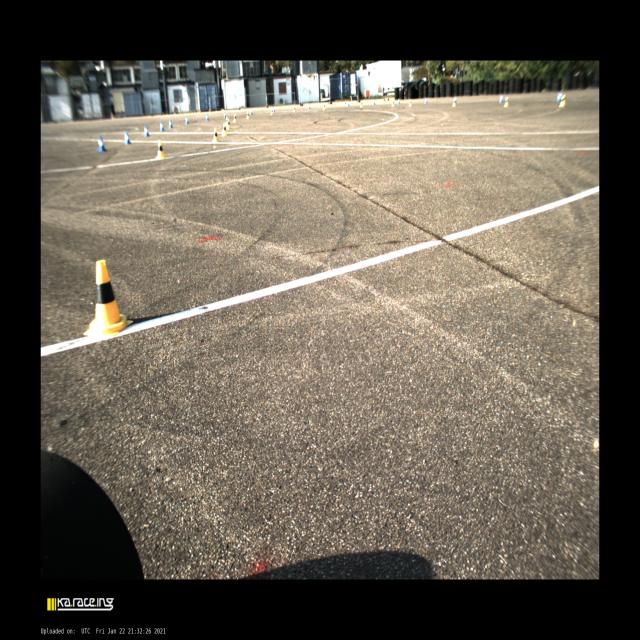blue_cone: (98, 135, 106, 152), (124, 130, 131, 145), (144, 125, 150, 137), (557, 91, 562, 102), (160, 121, 164, 132), (169, 119, 173, 128), (499, 94, 503, 102), (185, 116, 189, 124), (272, 106, 276, 113), (223, 110, 226, 119), (454, 95, 457, 103), (424, 96, 427, 104), (347, 100, 350, 107), (397, 98, 400, 104), (373, 99, 376, 105), (206, 113, 208, 121), (250, 108, 252, 115), (308, 103, 310, 109)
yellow_cone: (84, 260, 132, 338), (156, 139, 166, 159), (212, 127, 219, 143), (558, 95, 566, 107), (222, 122, 228, 136), (226, 118, 230, 130), (504, 96, 508, 107), (452, 98, 456, 107), (233, 114, 237, 122), (246, 111, 250, 119), (408, 99, 412, 107), (225, 116, 228, 126), (322, 104, 326, 110), (359, 102, 363, 108), (270, 108, 273, 115), (293, 106, 296, 112), (392, 101, 394, 107)
